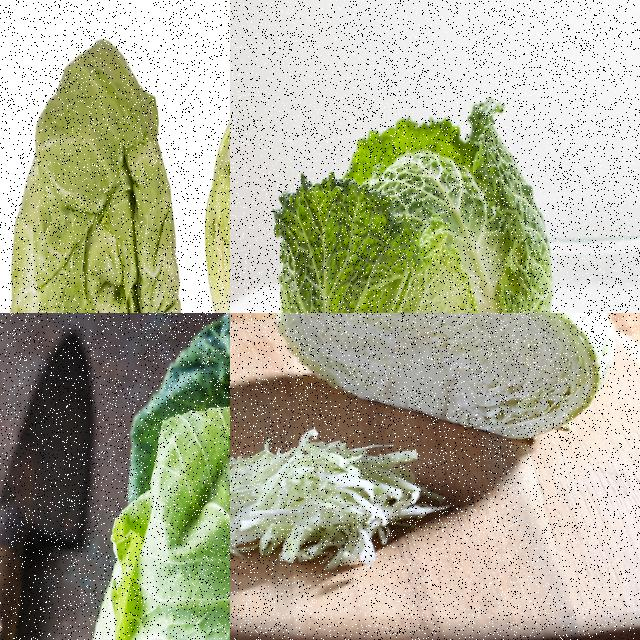cabbage: (267, 93, 556, 312), (75, 313, 229, 639), (5, 33, 183, 312), (272, 313, 621, 446)
